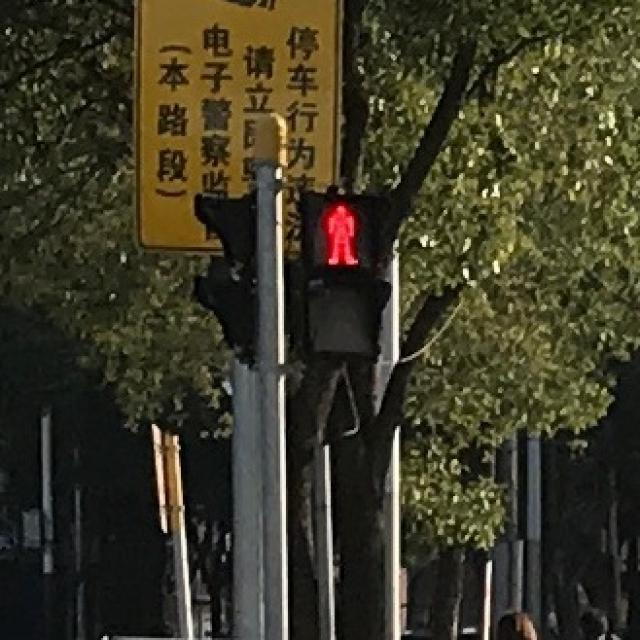red-crossing: (306, 190, 372, 270)
